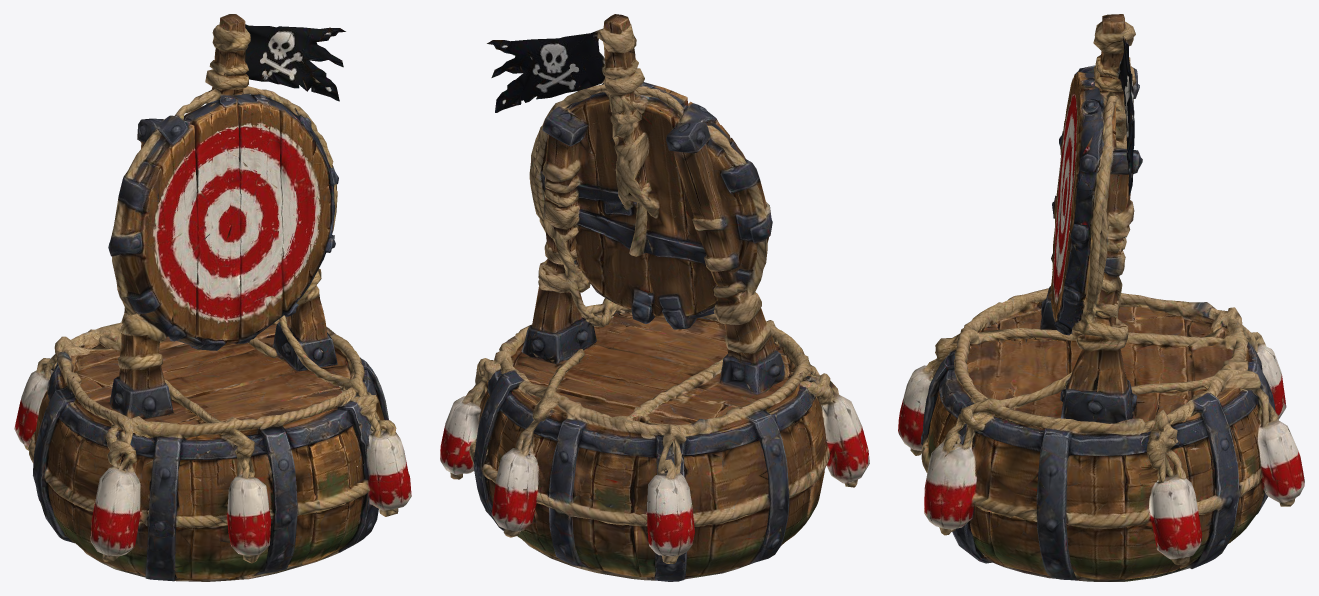
Rendered from naval_target.glb.
3 renders of one model, left to right at view 1: azimuth 30°, elevation 25°; view 2: azimuth 150°, elevation 25°; view 3: azimuth 270°, elevation 25°, orthographic. The views are drawn at different scales.
Bounding box in the file's own units: 1.35 × 1.9 × 1.36.
1 material, 1 textured.
